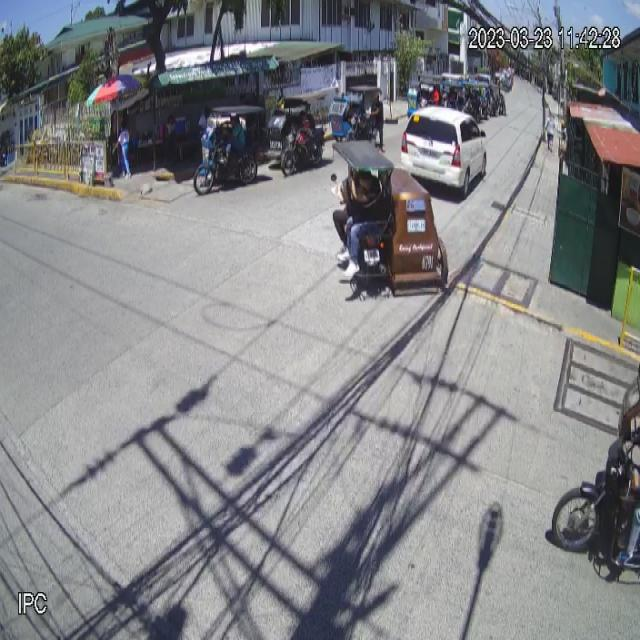Car: (398, 102, 489, 199)
Tricycle: (330, 138, 449, 298)
